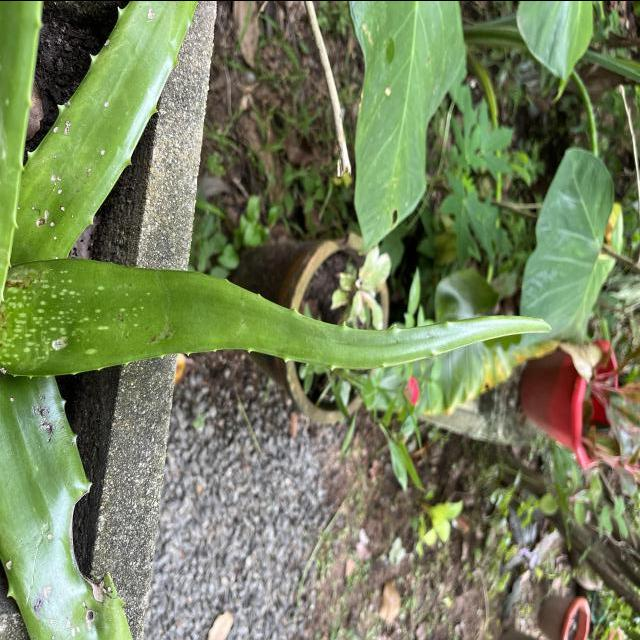Aloe vera: (4, 250, 558, 384)
